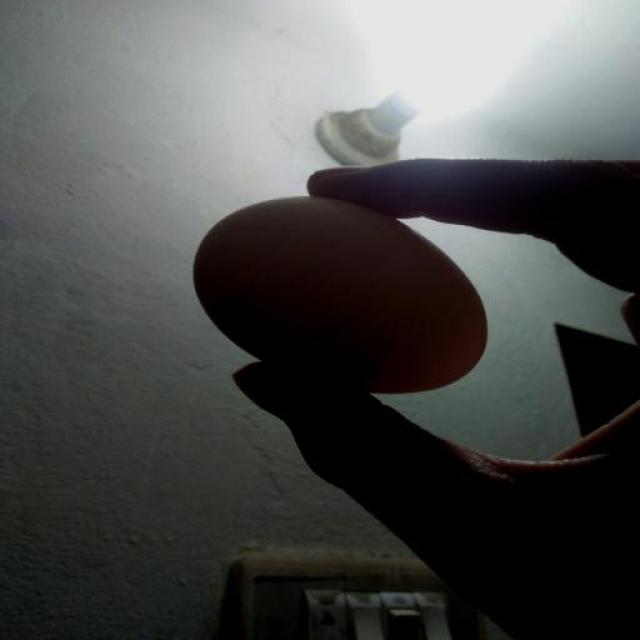telur: (185, 189, 495, 424)
